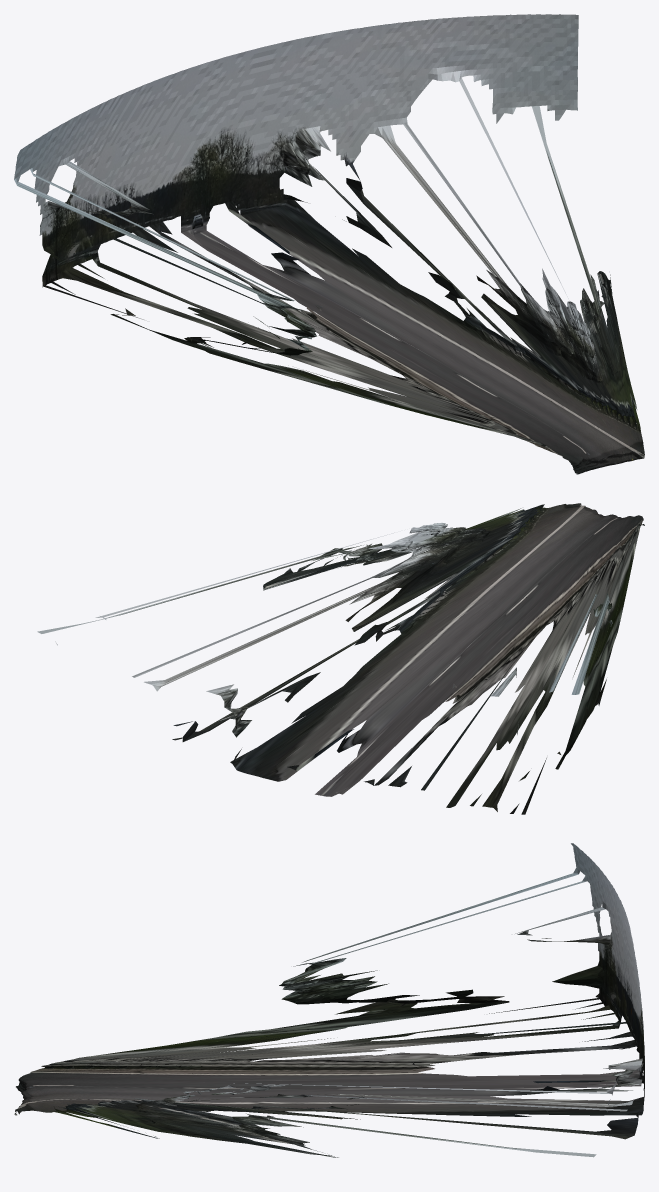
3 renders of one model, top to bottom at view 1: azimuth 30°, elevation 25°; view 2: azimuth 150°, elevation 25°; view 3: azimuth 270°, elevation 25°, orthographic. The views are drawn at different scales.
Parts seen in each view (by area): view 1: defaultobject; view 2: defaultobject; view 3: defaultobject.
Boxes of the visible parts, x1=… form: defaultobject: x1=14, y1=14, x2=644, y2=474; defaultobject: x1=37, y1=503, x2=644, y2=814; defaultobject: x1=14, y1=843, x2=644, y2=1157.
Size of the model in its own units: 40.97 by 12.08 by 44.47.
Materials: 1 (1 with a texture image).
